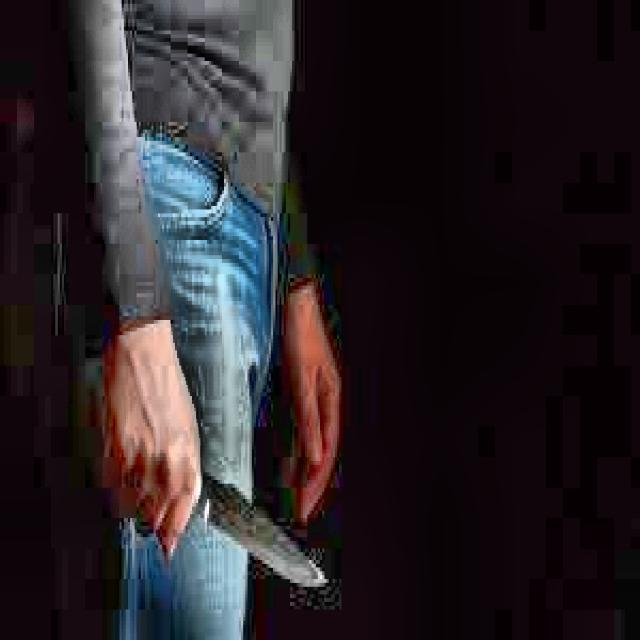knife: (200, 477, 330, 589)
